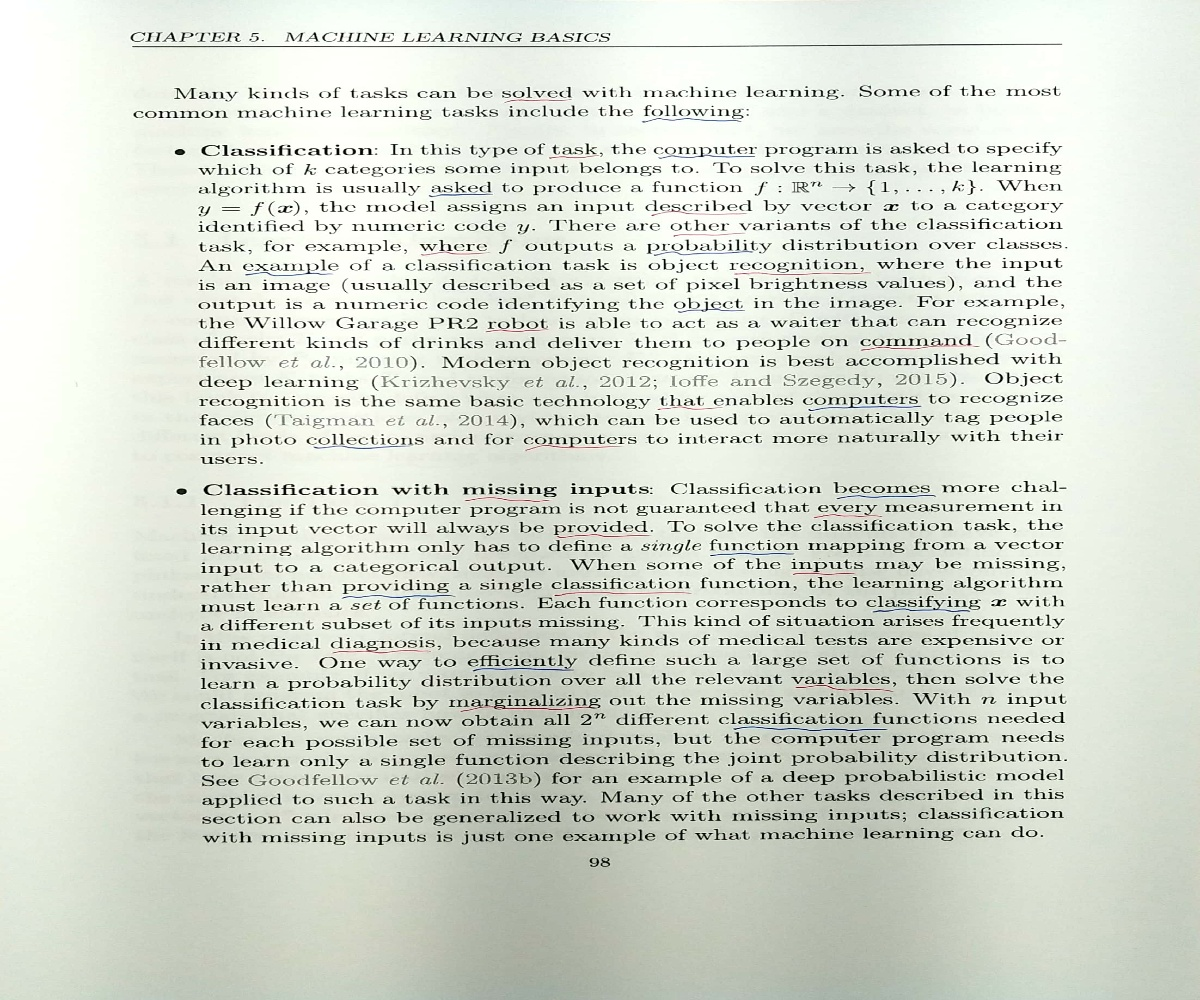underline: (730, 723, 887, 732), (555, 589, 695, 599), (340, 590, 460, 601), (735, 268, 872, 277), (805, 403, 935, 412), (650, 208, 747, 219), (526, 442, 630, 452), (471, 664, 575, 674), (455, 704, 600, 711), (873, 605, 974, 615), (794, 682, 894, 692), (464, 494, 553, 505), (310, 444, 416, 452), (836, 491, 939, 499), (709, 549, 799, 558), (657, 152, 756, 160), (653, 250, 752, 258), (556, 531, 653, 539), (241, 269, 333, 277), (419, 248, 492, 258), (654, 403, 726, 413), (644, 119, 740, 126), (505, 95, 577, 104), (329, 649, 437, 655), (674, 307, 745, 316), (668, 229, 746, 237), (792, 568, 859, 577), (812, 512, 888, 519), (485, 327, 547, 335), (549, 153, 601, 162), (427, 191, 493, 198)
